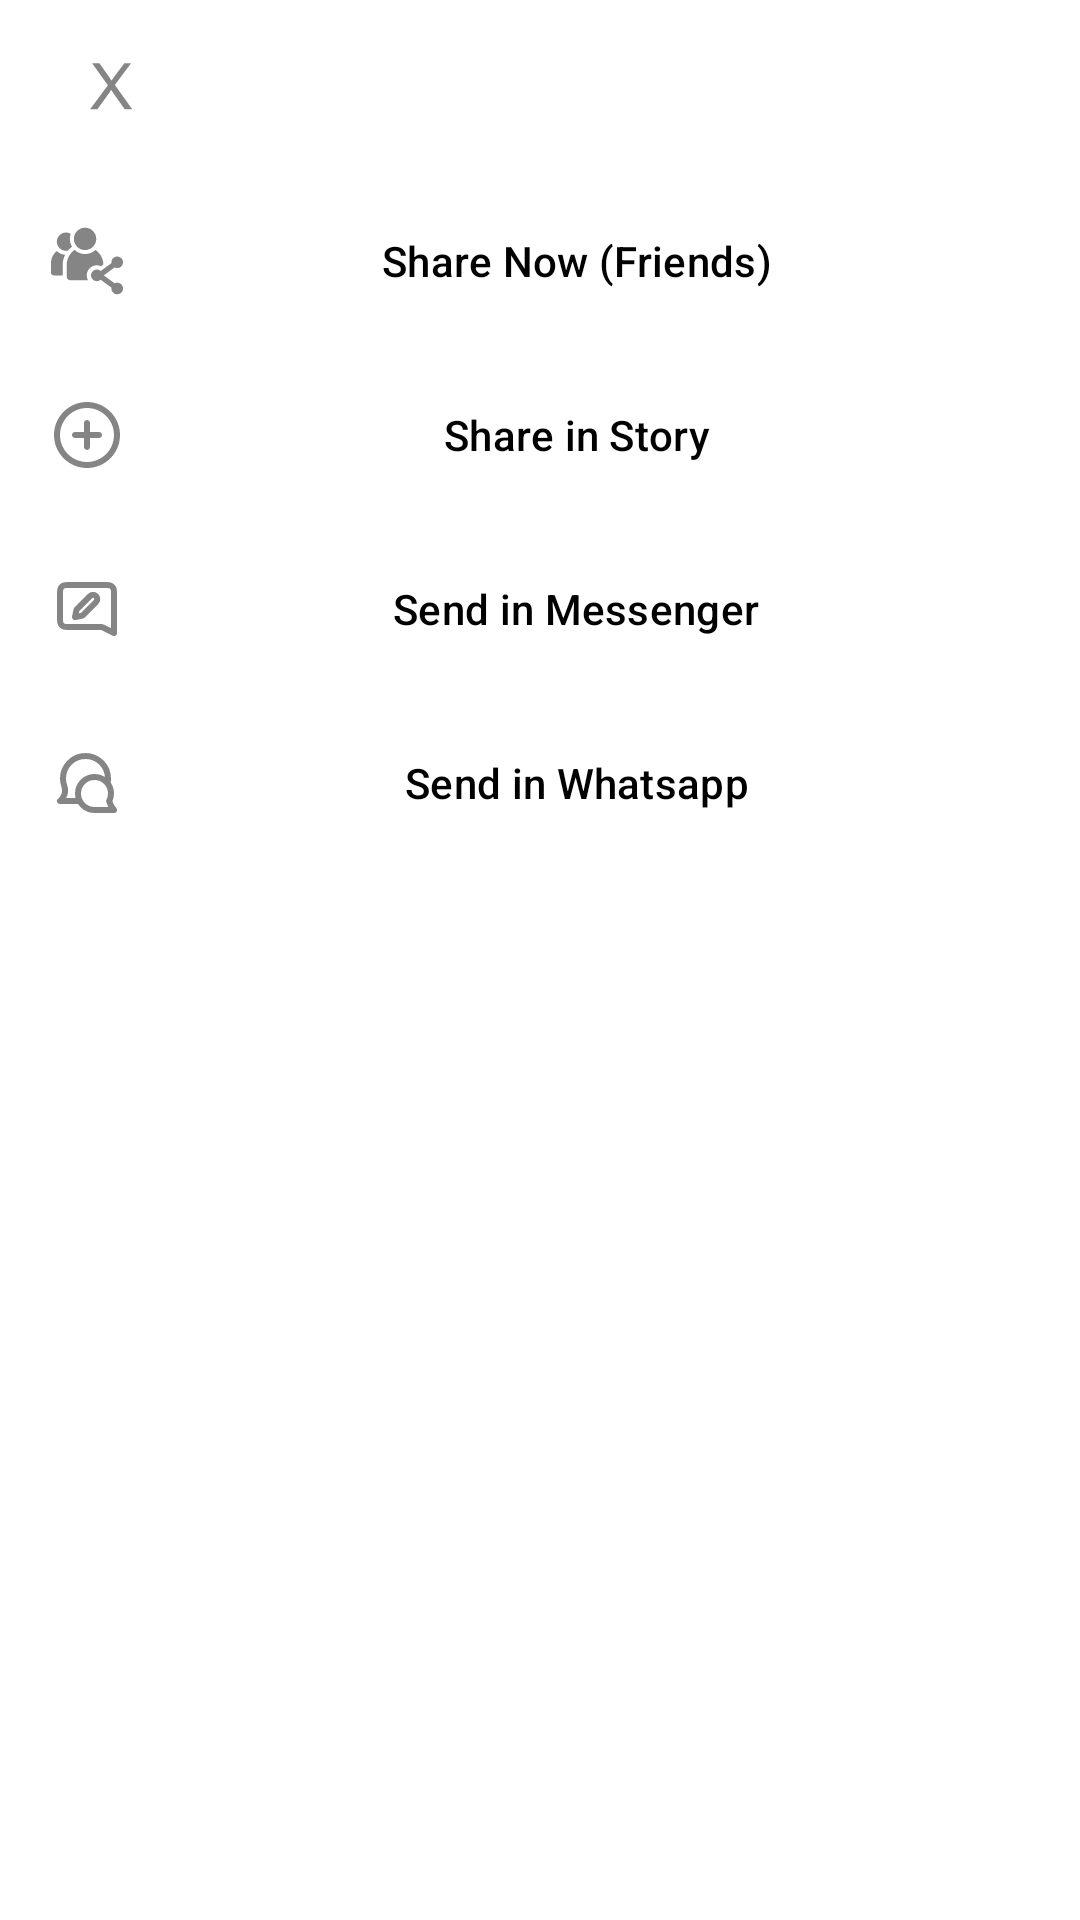

Named icons in this screenshot (1080*1920) and their centers, (x=x, y=y):
close tag: (x=111, y=86)
